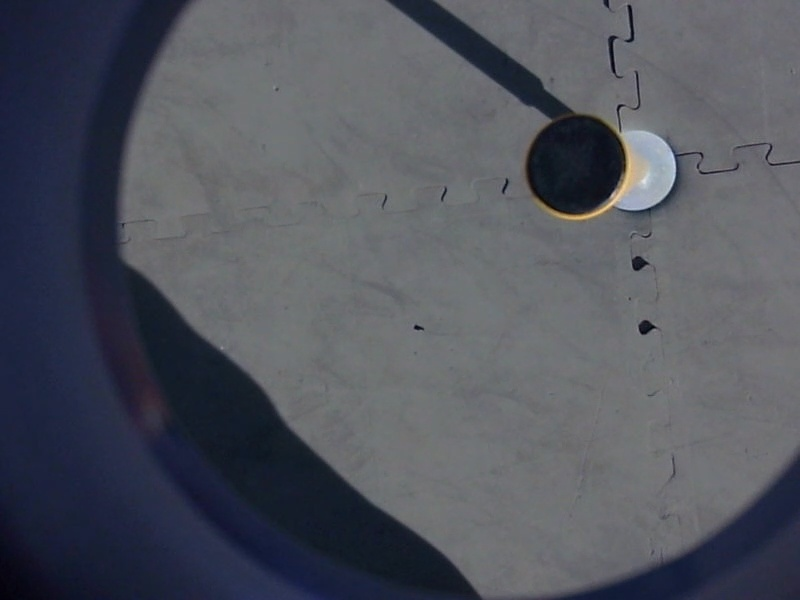tip: (518, 107, 636, 227)
